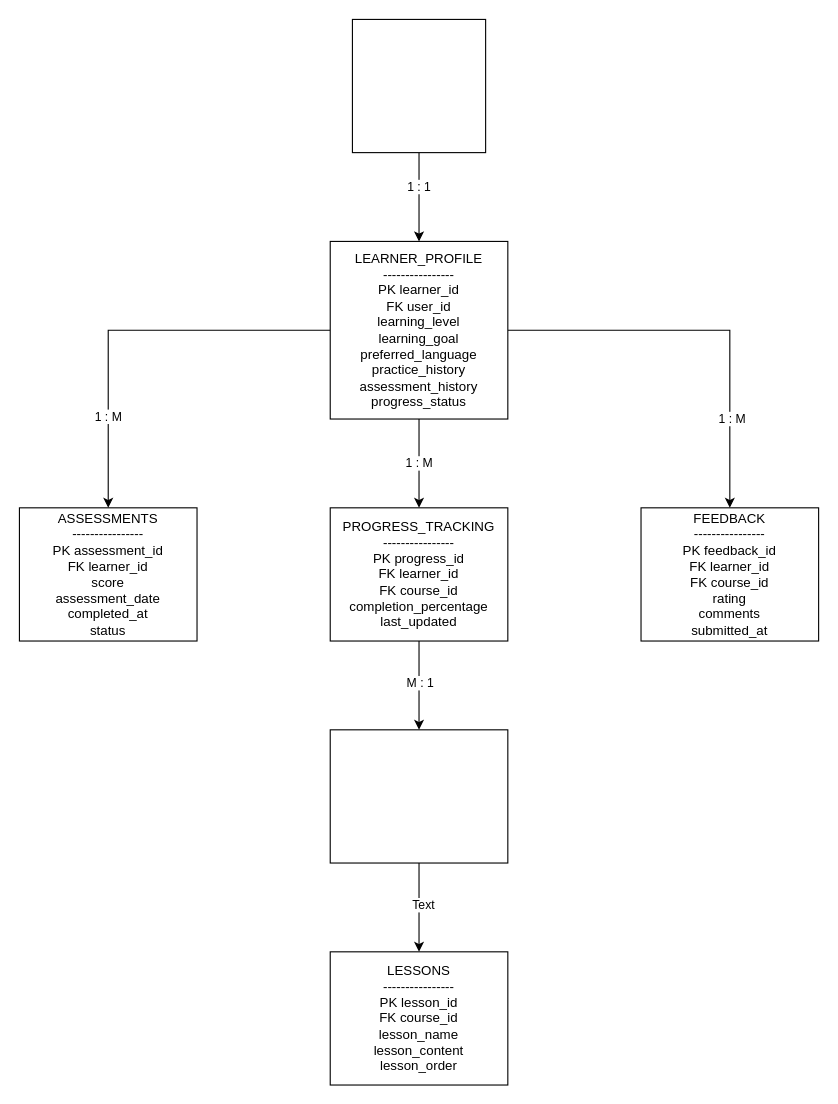
Some shapes in this 838 by 1104 pixel diagram are drawn without their labels. The shapes that lost their labels are listed below. From the top down, each one's box as (x1, y1, x2, y2) in pixels, then its label:
(351, 18, 486, 153): USERS ---------------- PK user_id name email password role
(329, 729, 508, 863): COURSES ---------------- PK course_id course_name category description
